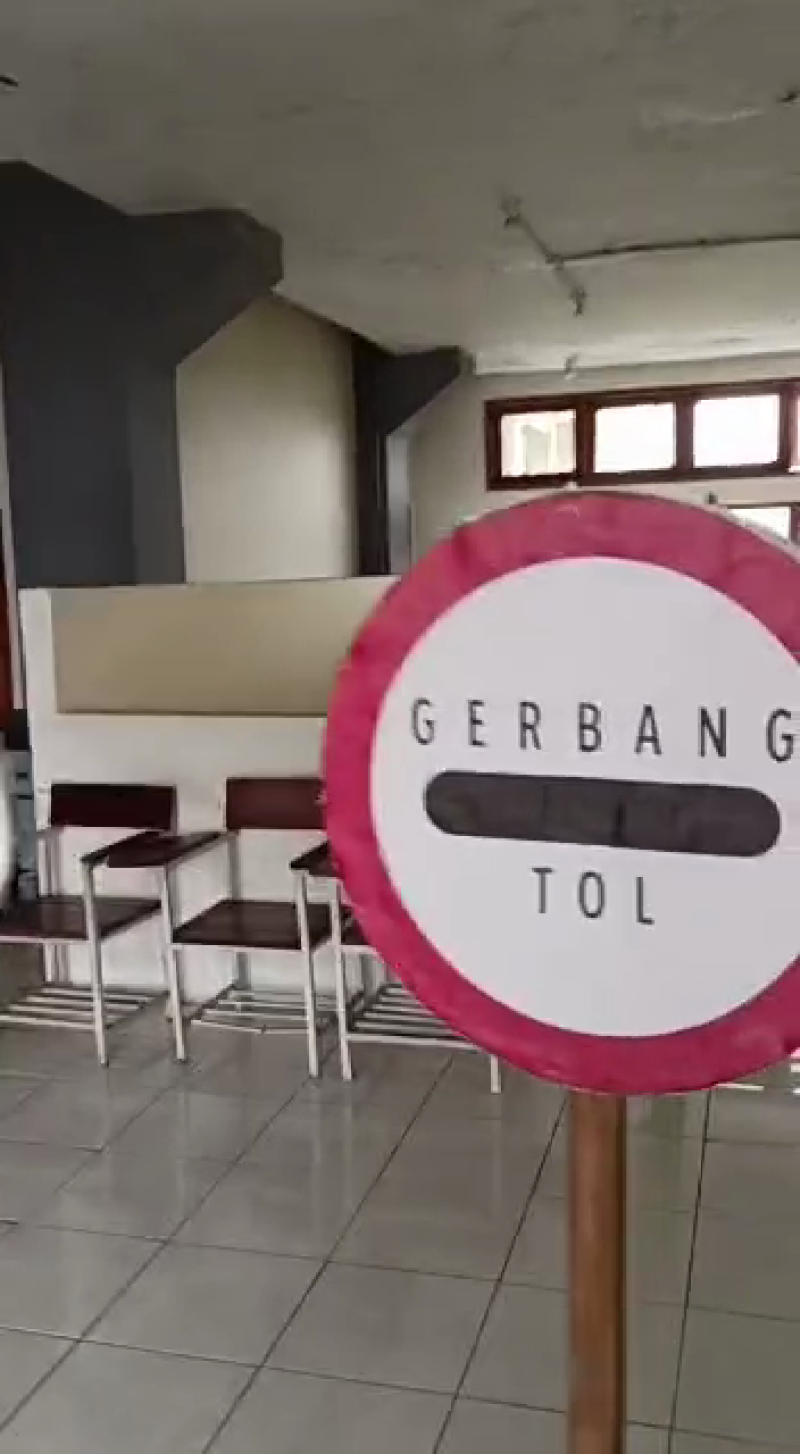gerbang tol: (313, 486, 800, 1098)
